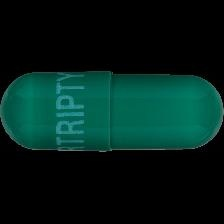63187-227: (0, 0, 224, 224)
